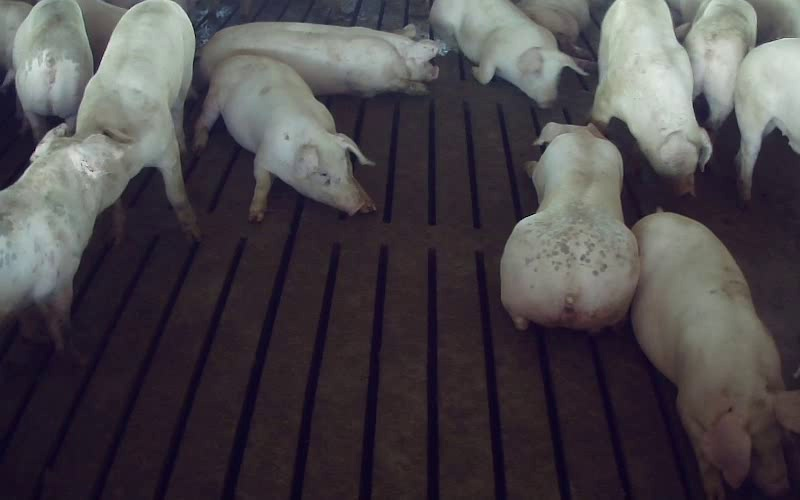pig: (631, 212, 799, 499), (194, 55, 374, 221), (0, 124, 128, 350), (76, 0, 198, 237), (500, 122, 638, 330), (592, 0, 711, 193), (198, 22, 441, 96), (429, 0, 586, 107)
